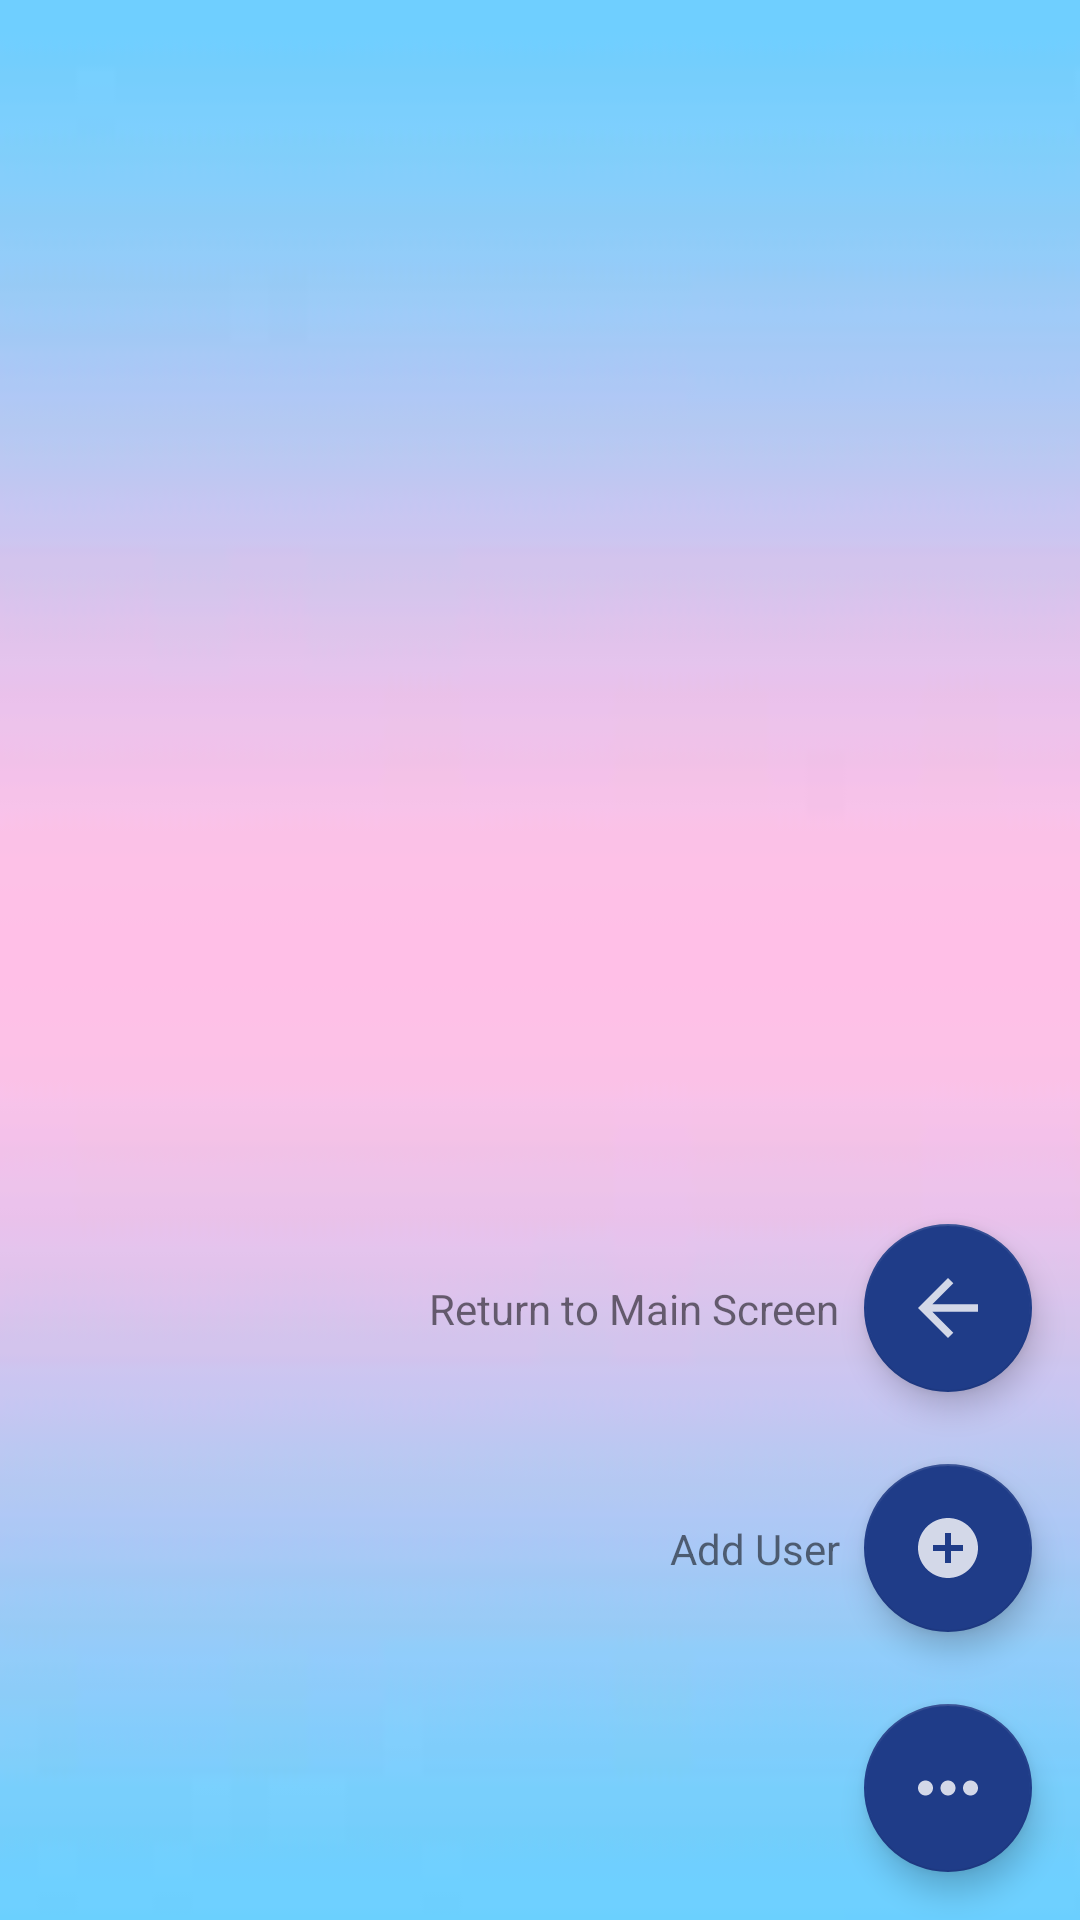

Icons on this 1080px×1920px Android screen, each with the point to tap as (x,y):
back: (948,1308)
more: (948,1788)
